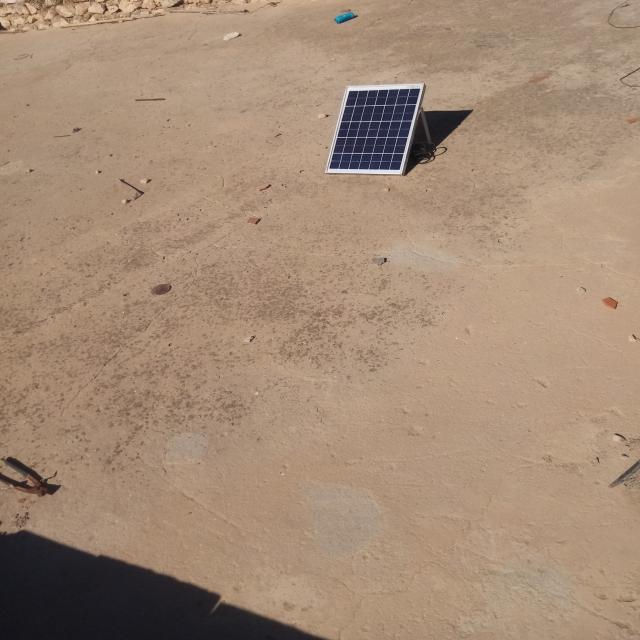no faulty: (326, 83, 425, 175)
